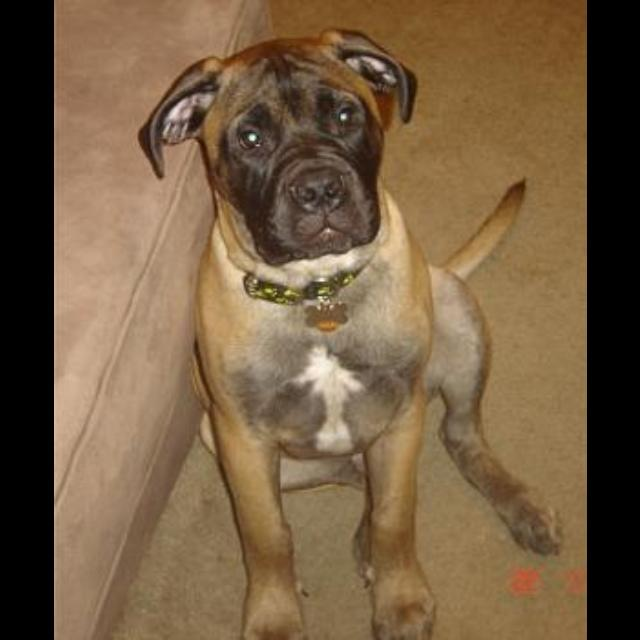bullmastiff: (137, 27, 564, 639)
